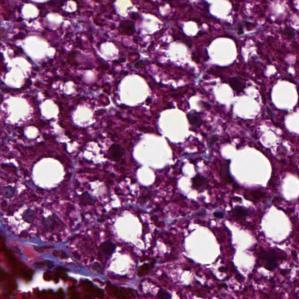steatosis: (220, 141, 273, 188), (130, 132, 172, 187), (180, 220, 220, 269), (29, 151, 68, 195), (155, 104, 196, 145), (113, 69, 155, 108), (257, 203, 293, 245), (114, 208, 150, 248), (266, 72, 299, 111), (201, 37, 241, 66)
